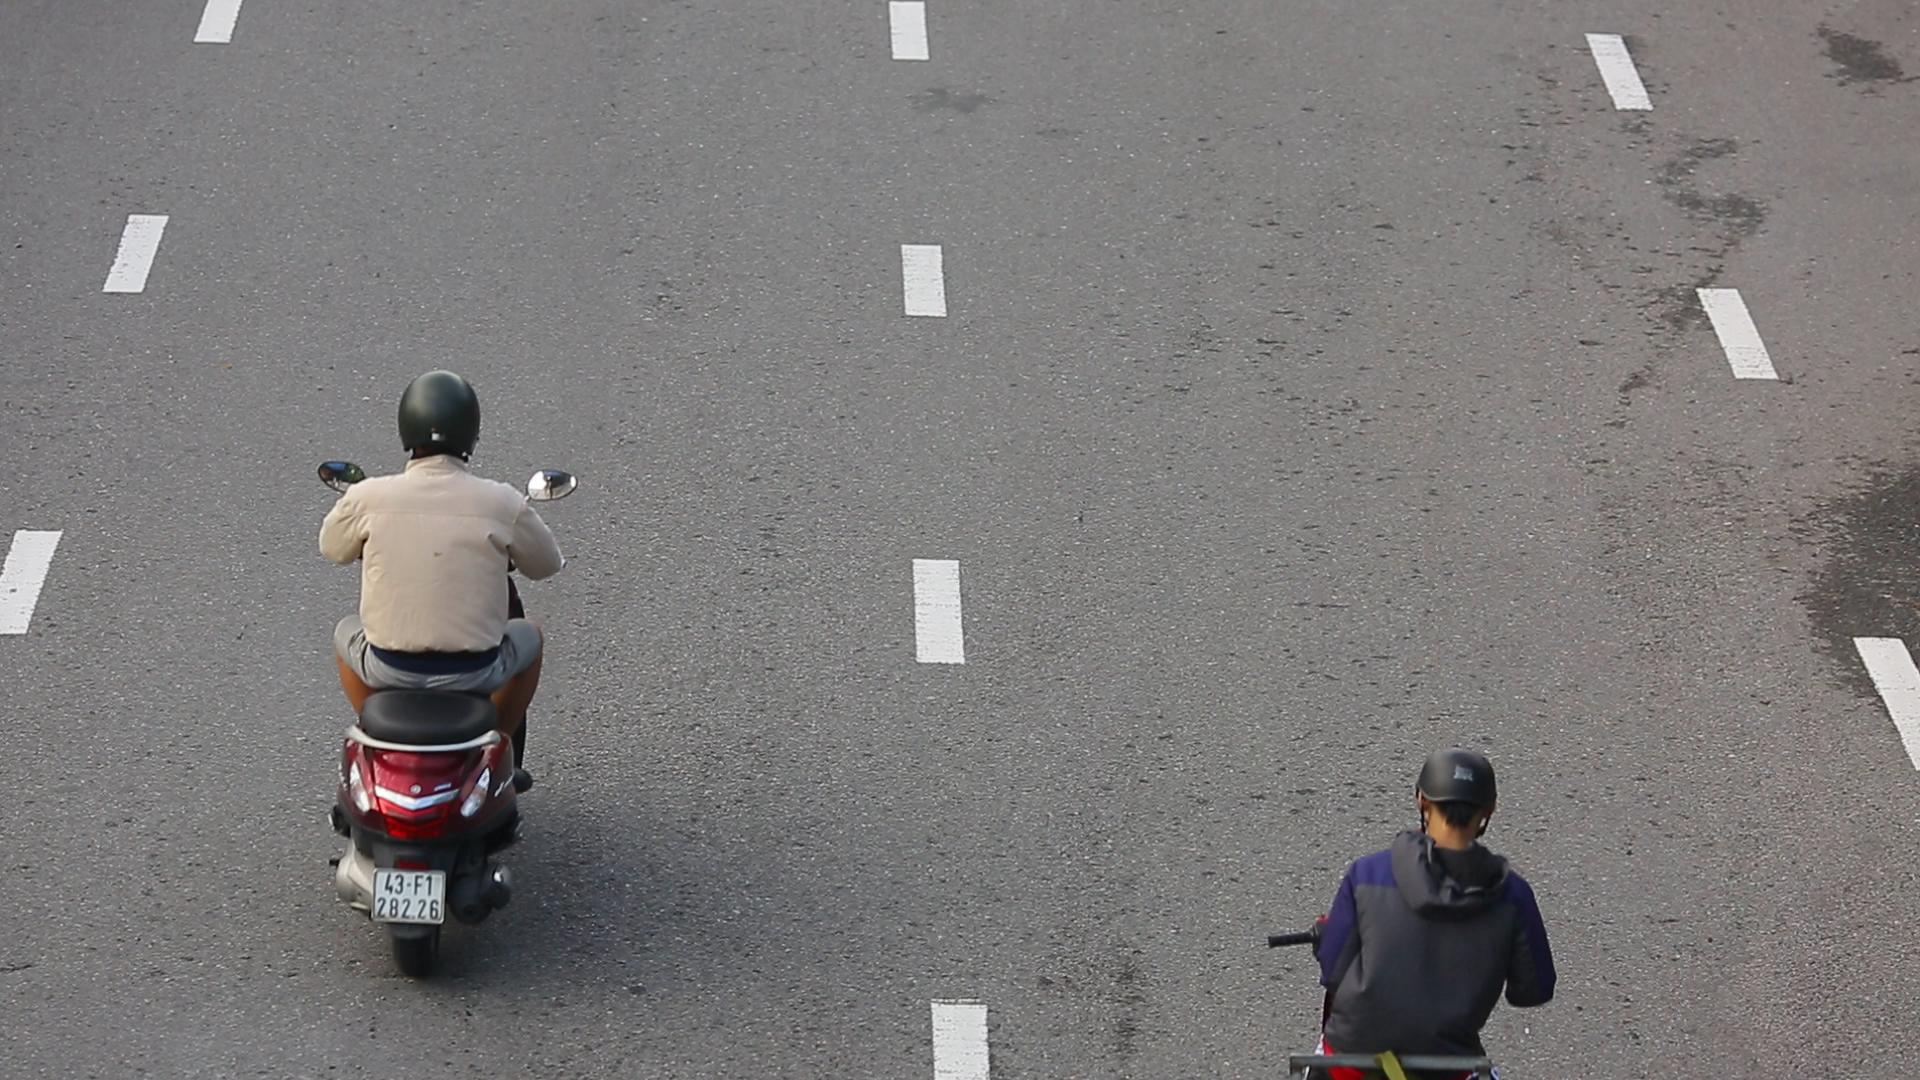motobike: (301, 360, 585, 982)
